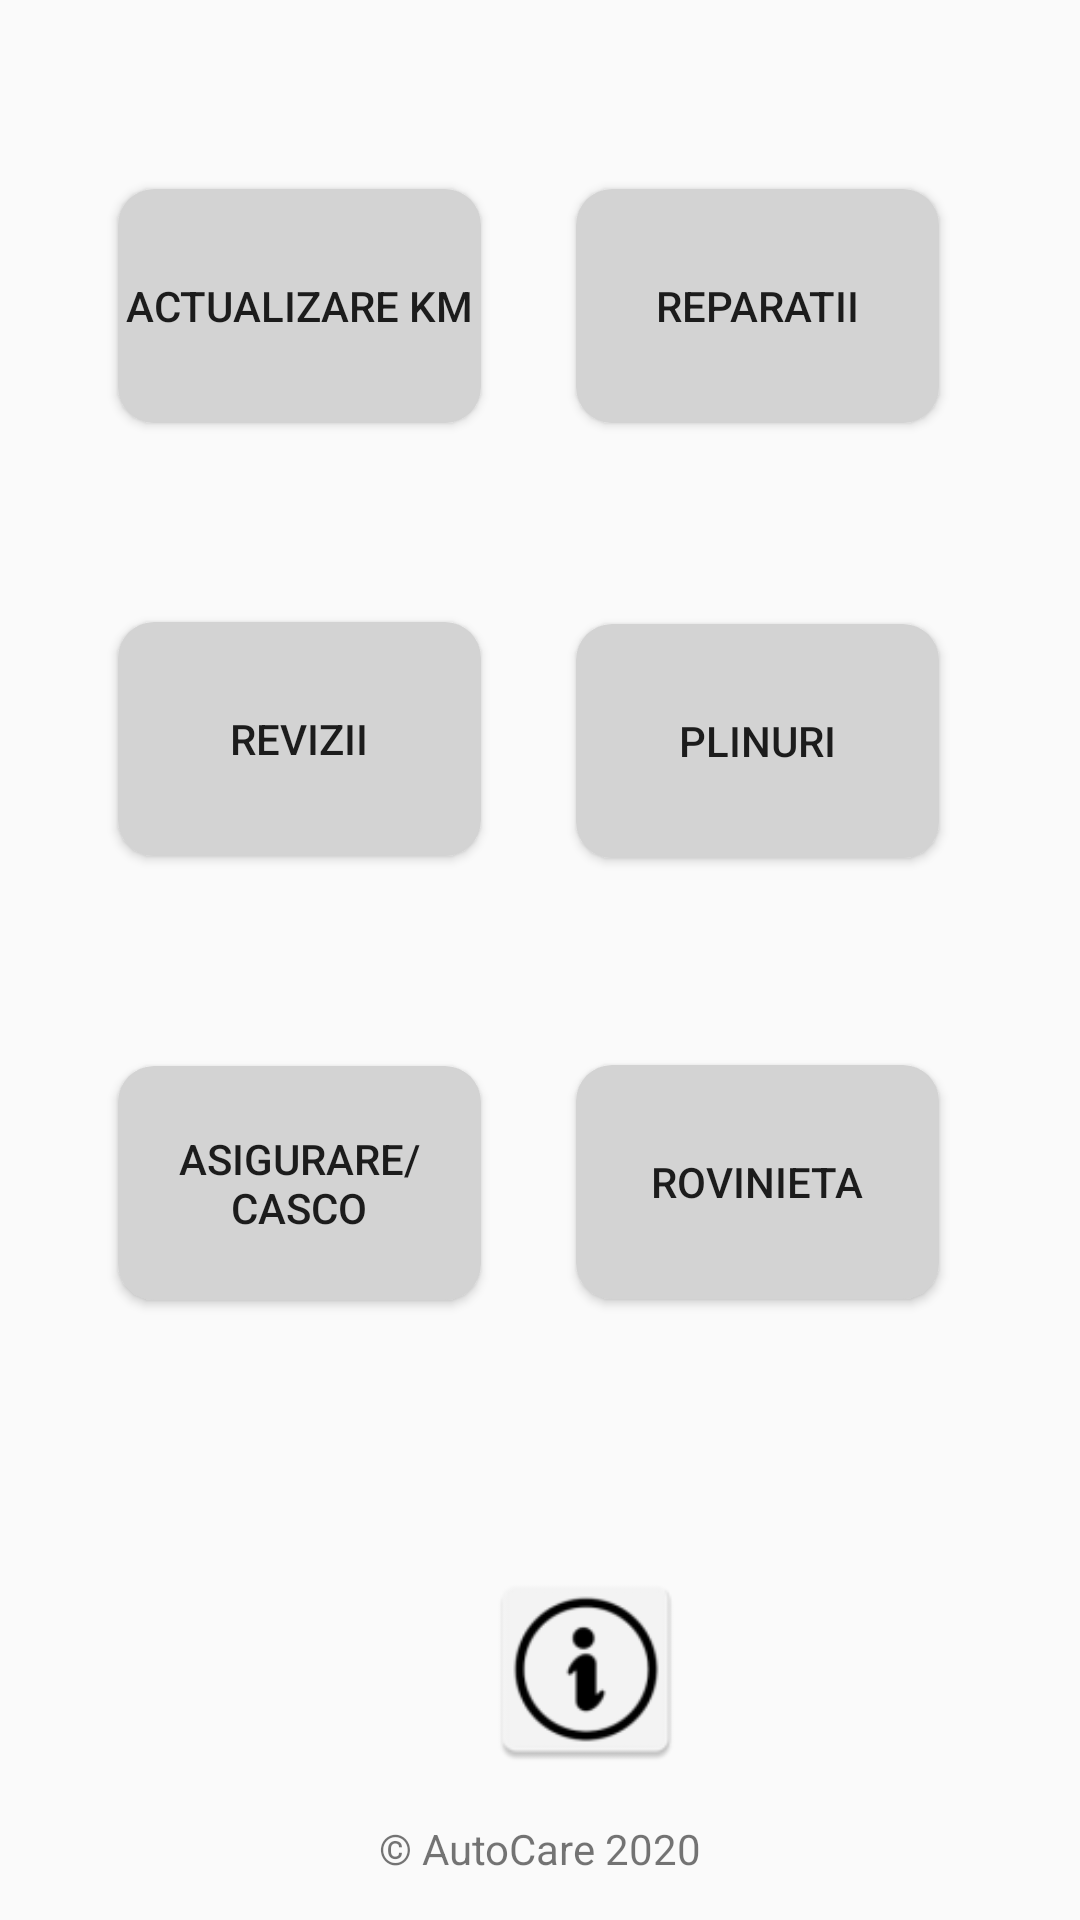

Icon click points for this 1080px x 1920px phone screenshot, format [x,y]:
info: [586,1676]
